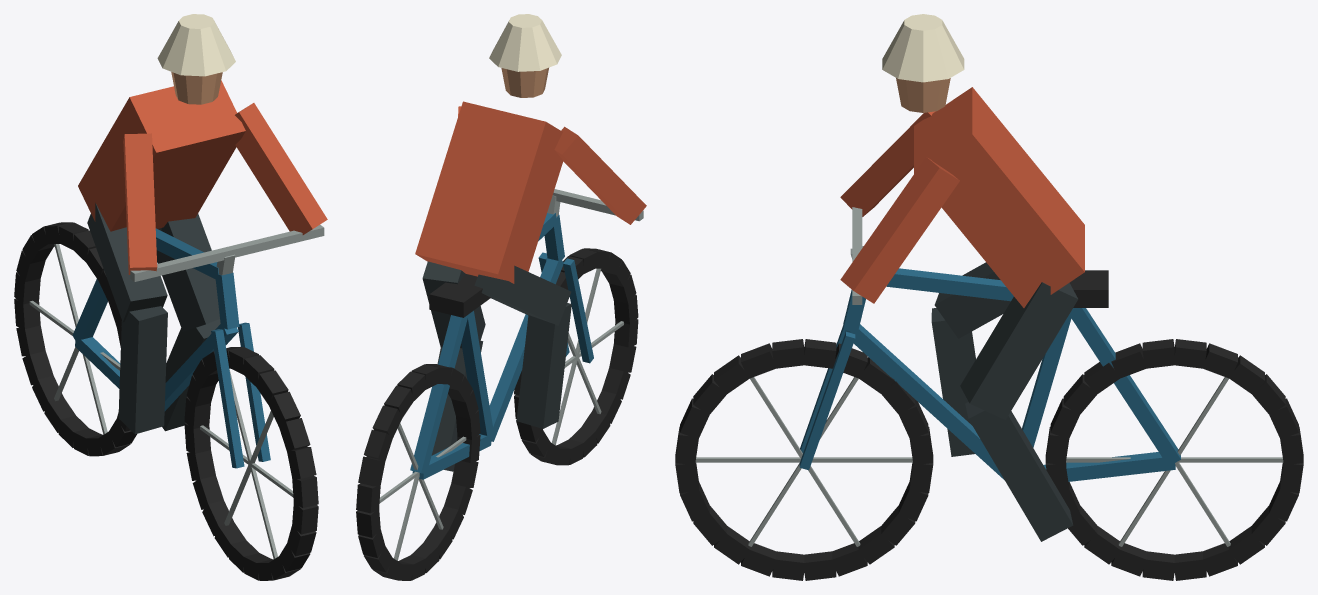
The model's file is bicycle.meshopt.glb.
3 views of the same model, side by side, from view 1: azimuth 30°, elevation 25°; view 2: azimuth 150°, elevation 25°; view 3: azimuth 270°, elevation 25° (orthographic). The views are drawn at different scales.
Parts seen in each view (by area): view 1: bicycle; view 2: bicycle; view 3: bicycle.
Part boxes in pixels (x1=…): bicycle: x1=14, y1=14, x2=327, y2=580; bicycle: x1=356, y1=14, x2=646, y2=580; bicycle: x1=675, y1=14, x2=1303, y2=580.
Bounding box in the file's own units: 0.7515 × 1.85 × 1.9.
